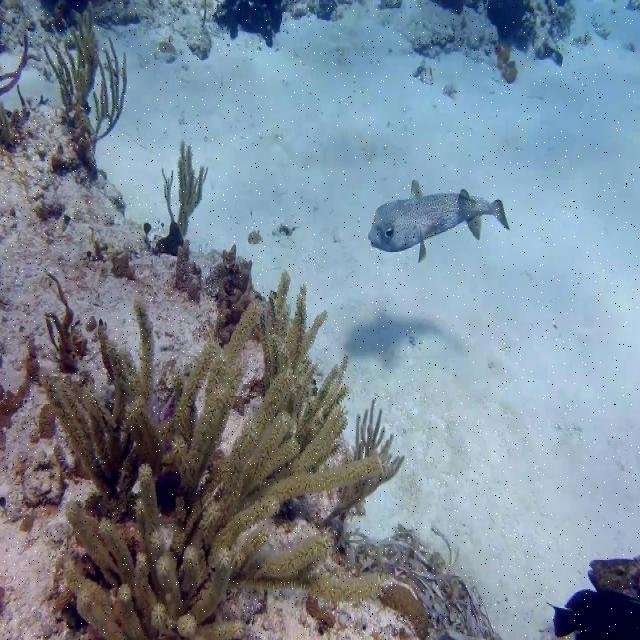fish: (368, 181, 509, 262)
reefs: (39, 265, 386, 639)
